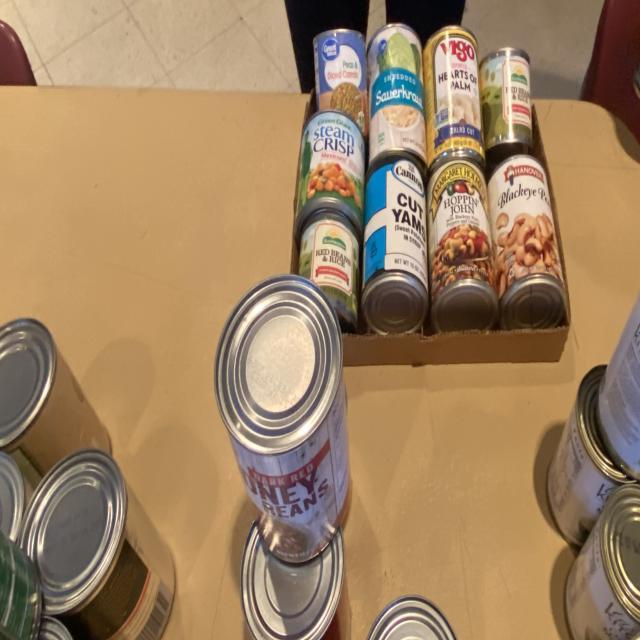Canned Food: (215, 276, 350, 562), (19, 448, 175, 639), (0, 320, 110, 475), (548, 365, 630, 548), (488, 154, 566, 330), (240, 523, 351, 639), (361, 154, 429, 334), (428, 160, 498, 332), (565, 484, 640, 639), (422, 25, 485, 170), (295, 112, 365, 241), (368, 23, 426, 164), (599, 293, 640, 479), (480, 48, 532, 181), (299, 218, 359, 330), (314, 29, 369, 137), (0, 529, 41, 639), (368, 596, 456, 640), (0, 452, 34, 542), (38, 616, 72, 640)
